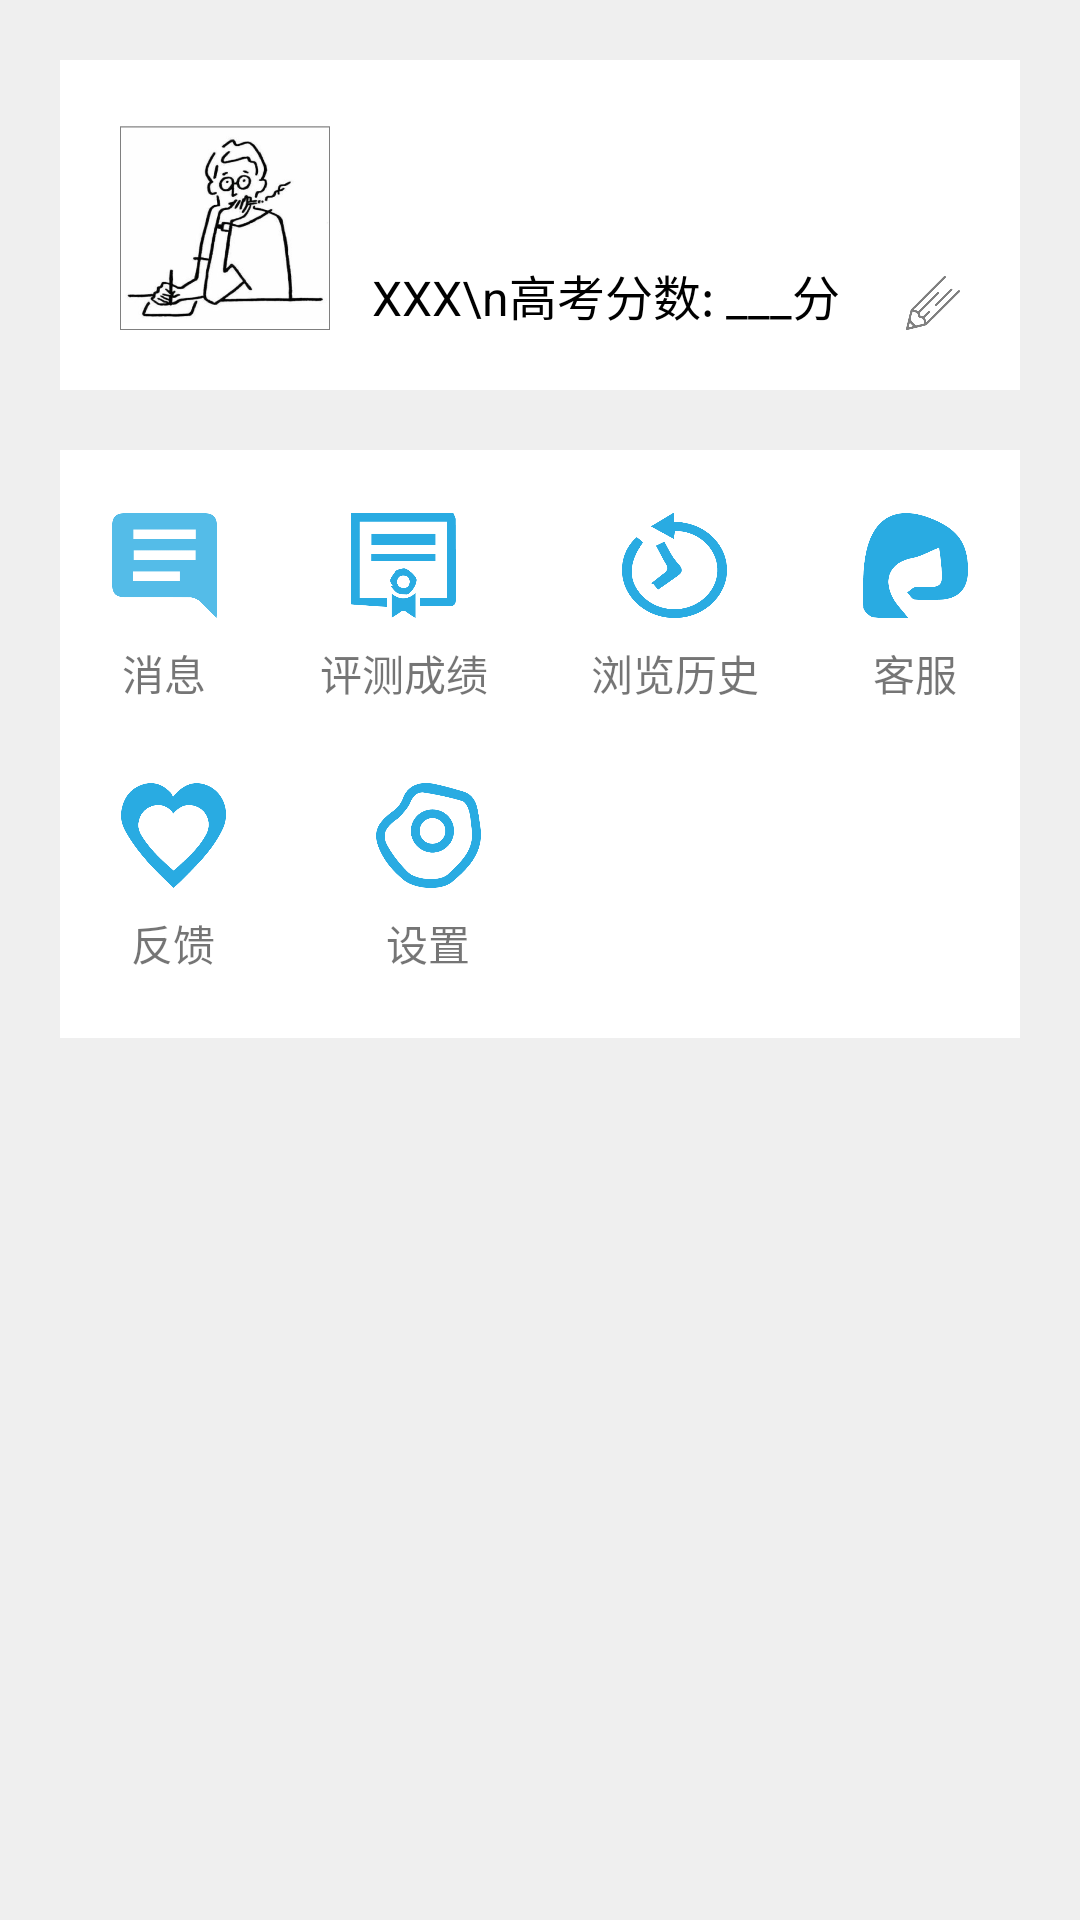

Icons on this 1080px x 1920px Android screen, each with the point to tap as (x,y):
pencil: (933,303)
